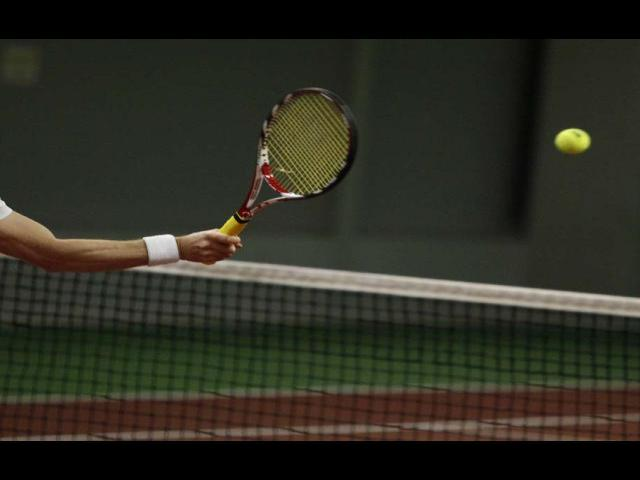tennis-ball: (554, 126, 592, 154)
